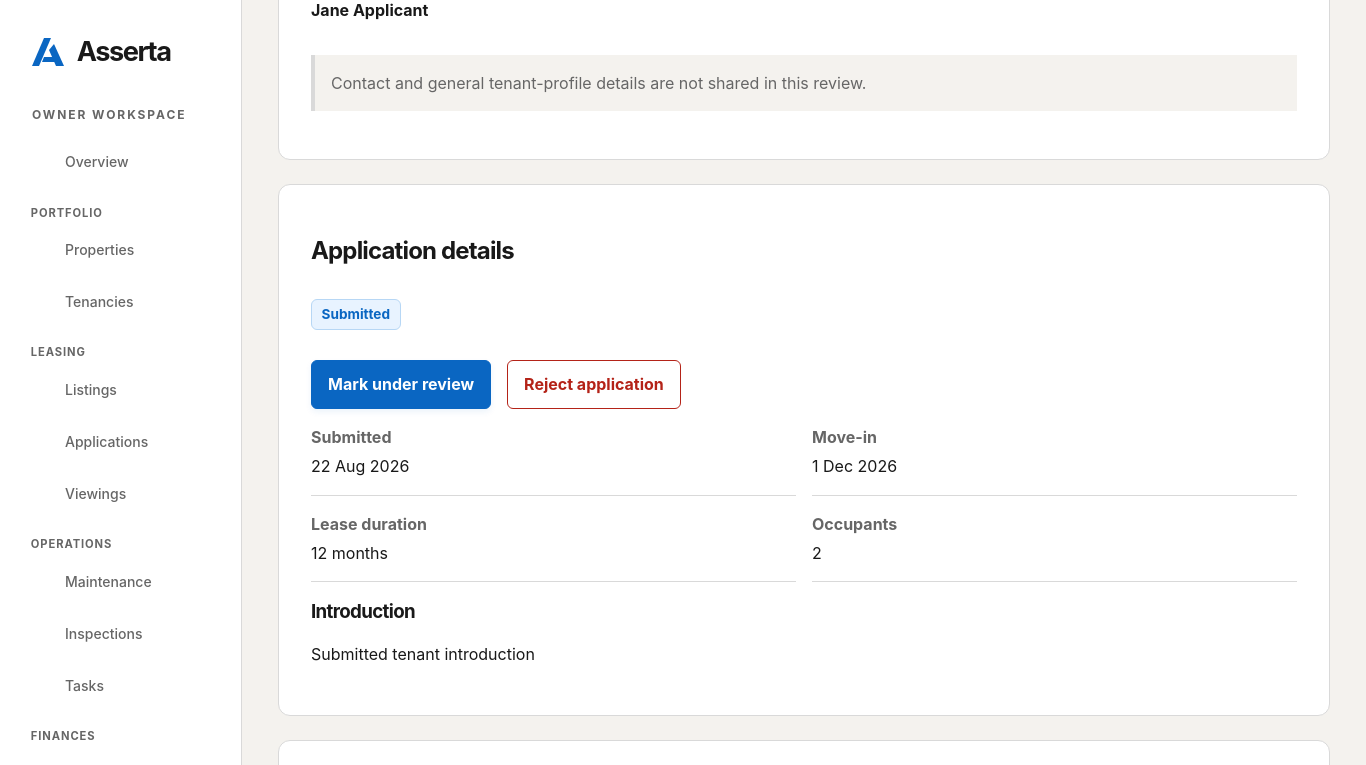
landlord application detail › requires confirmation before rejection and shows terminal state after success
(page scrolled)
Step 1. Click the button "Reject application" → (594, 384), box [507,360,681,409]
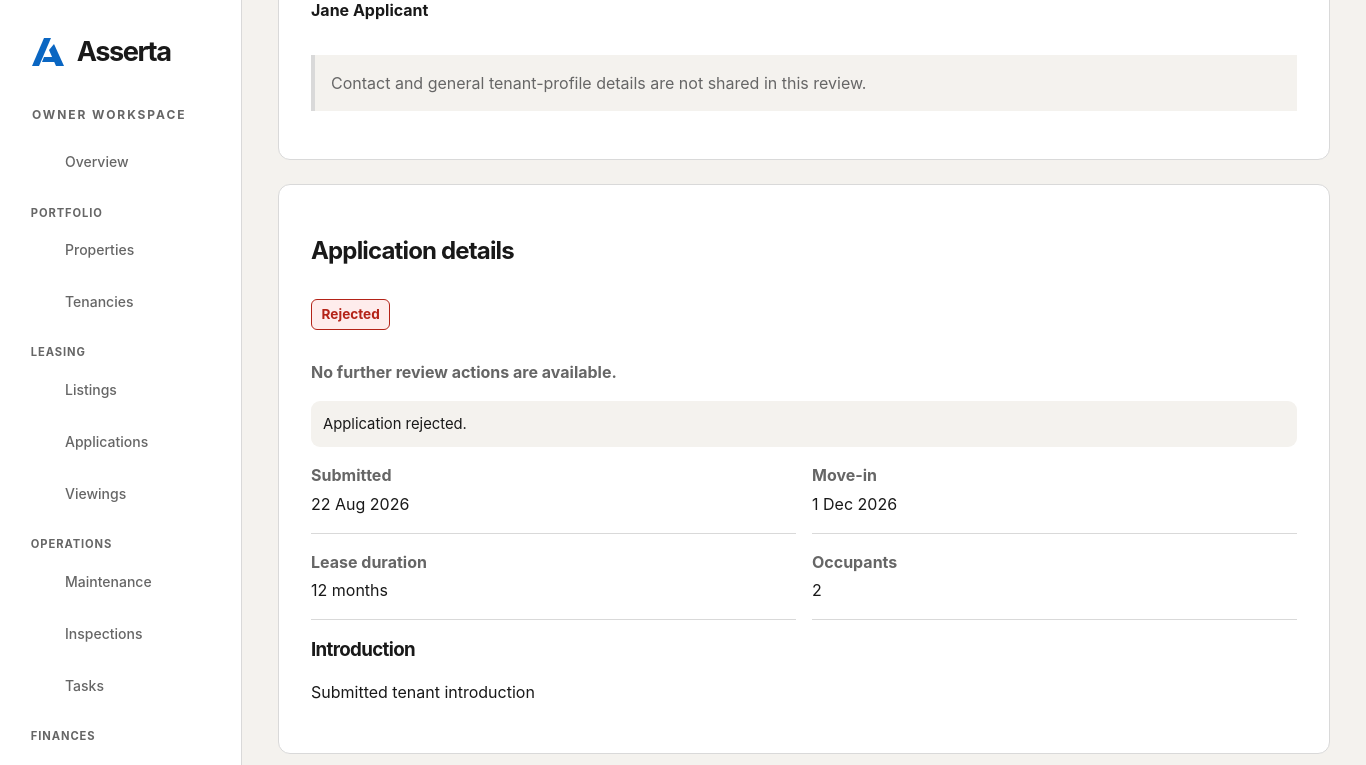
Now the text "Application rejected." is shown, box [311,401,1297,447]
Now the text "No further review actions are available." is shown, box [311,362,617,382]
